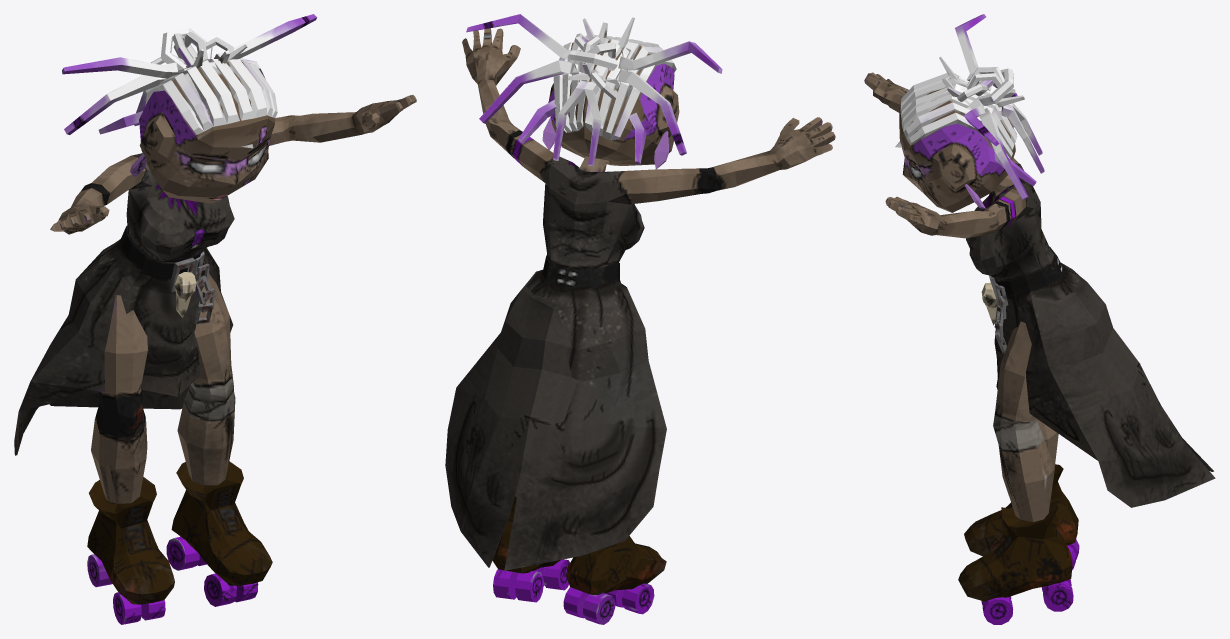
The model's file is bruja_000205.obj.
3 views of the same model, side by side, from view 1: azimuth 30°, elevation 25°; view 2: azimuth 150°, elevation 25°; view 3: azimuth 270°, elevation 25° (orthographic). The views are drawn at different scales.
Visible parts, largest first — view 1: Bruja_Plane.001; view 2: Bruja_Plane.001; view 3: Bruja_Plane.001.
Part boxes in pixels (left/top/right/bottom): Bruja_Plane.001: left=14, top=14, right=416, bottom=624; Bruja_Plane.001: left=445, top=14, right=835, bottom=624; Bruja_Plane.001: left=864, top=14, right=1215, bottom=624.
Bounding box in the file's own units: 10.76 × 16.16 × 9.63.
